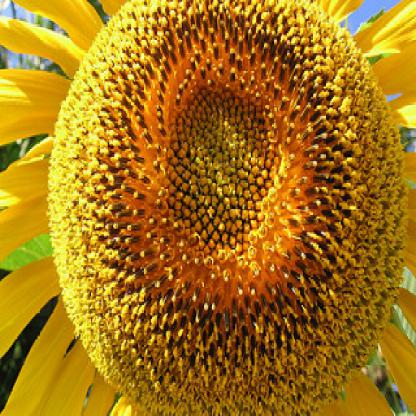SUN FLOWER: (26, 5, 413, 409)
